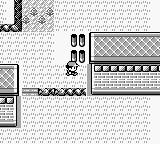main: (66, 62, 79, 75)
no-caminable: (90, 33, 159, 95), (0, 65, 18, 127), (0, 0, 22, 32), (71, 34, 85, 63)
salto: (0, 0, 22, 32), (39, 88, 85, 95)
